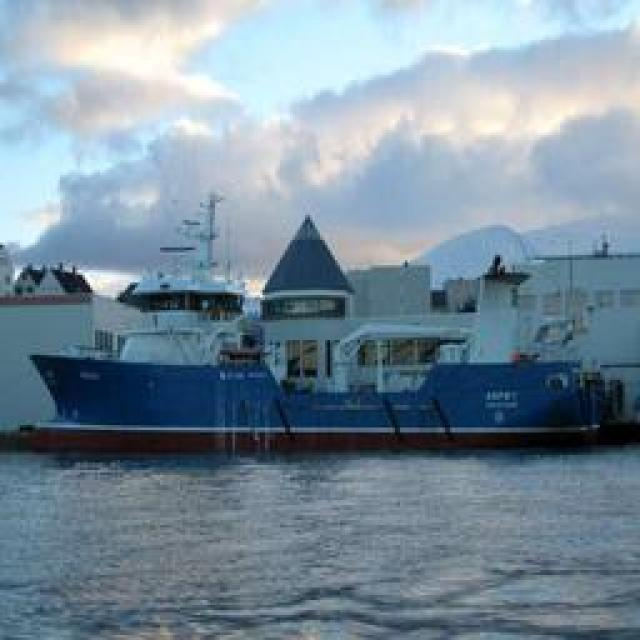CIV_Ship: (14, 306, 626, 456)
